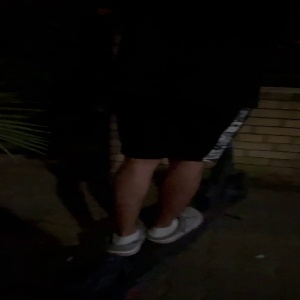human on a scooter: (59, 1, 262, 297)
